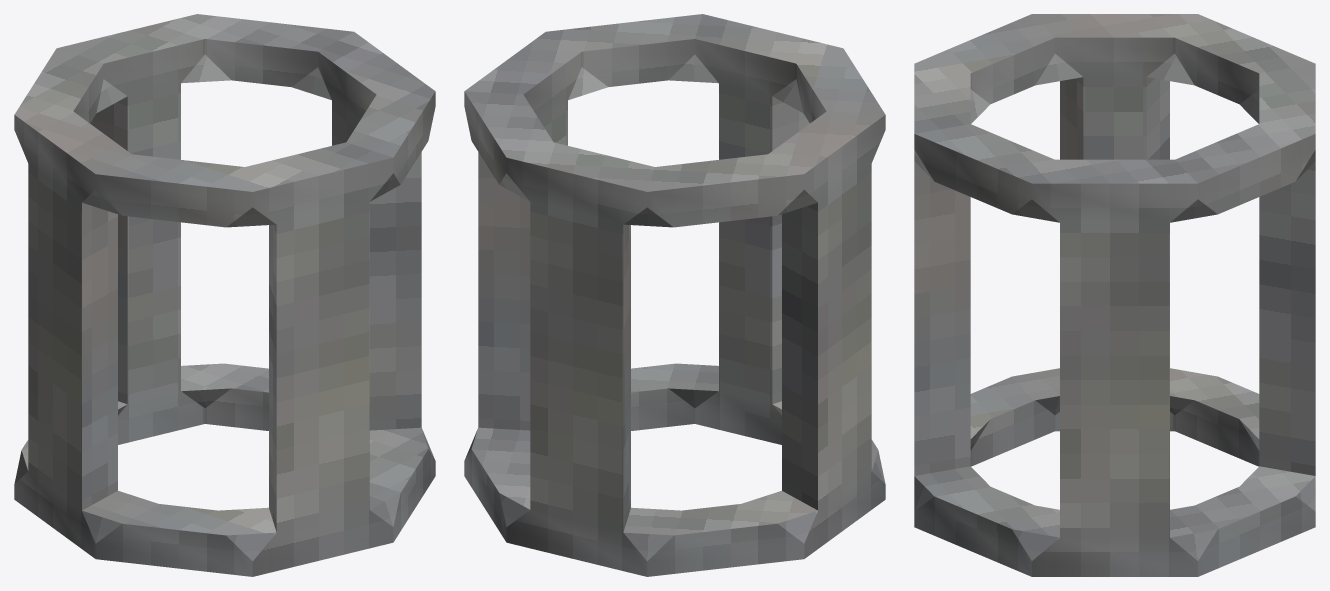
Rendered from transductBase.obj.
3 views of the same model, side by side, from view 1: azimuth 30°, elevation 25°; view 2: azimuth 150°, elevation 25°; view 3: azimuth 270°, elevation 25° (orthographic). The views are drawn at different scales.
Visible parts, largest first — view 1: Tube003; view 2: Tube003; view 3: Tube003.
Boxes of the visible parts, x1,y1,x2,y2 form: Tube003: (14, 14, 435, 576); Tube003: (464, 14, 885, 576); Tube003: (914, 14, 1315, 576).
Bounding box in the file's own units: 0.9238 × 1 × 0.9238.
